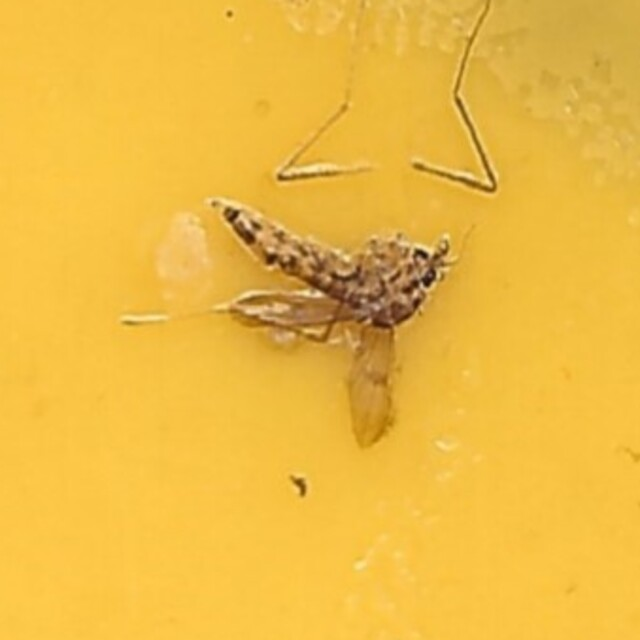Nematocera: (189, 196, 451, 444)
